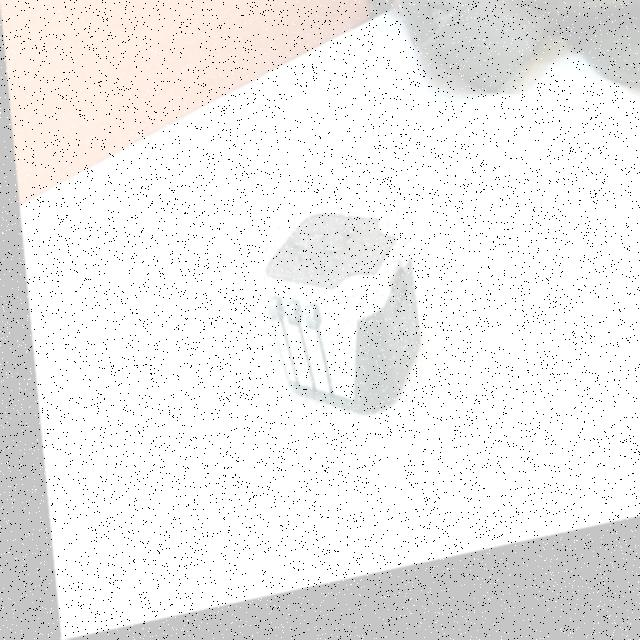adapter: (248, 207, 417, 445)
